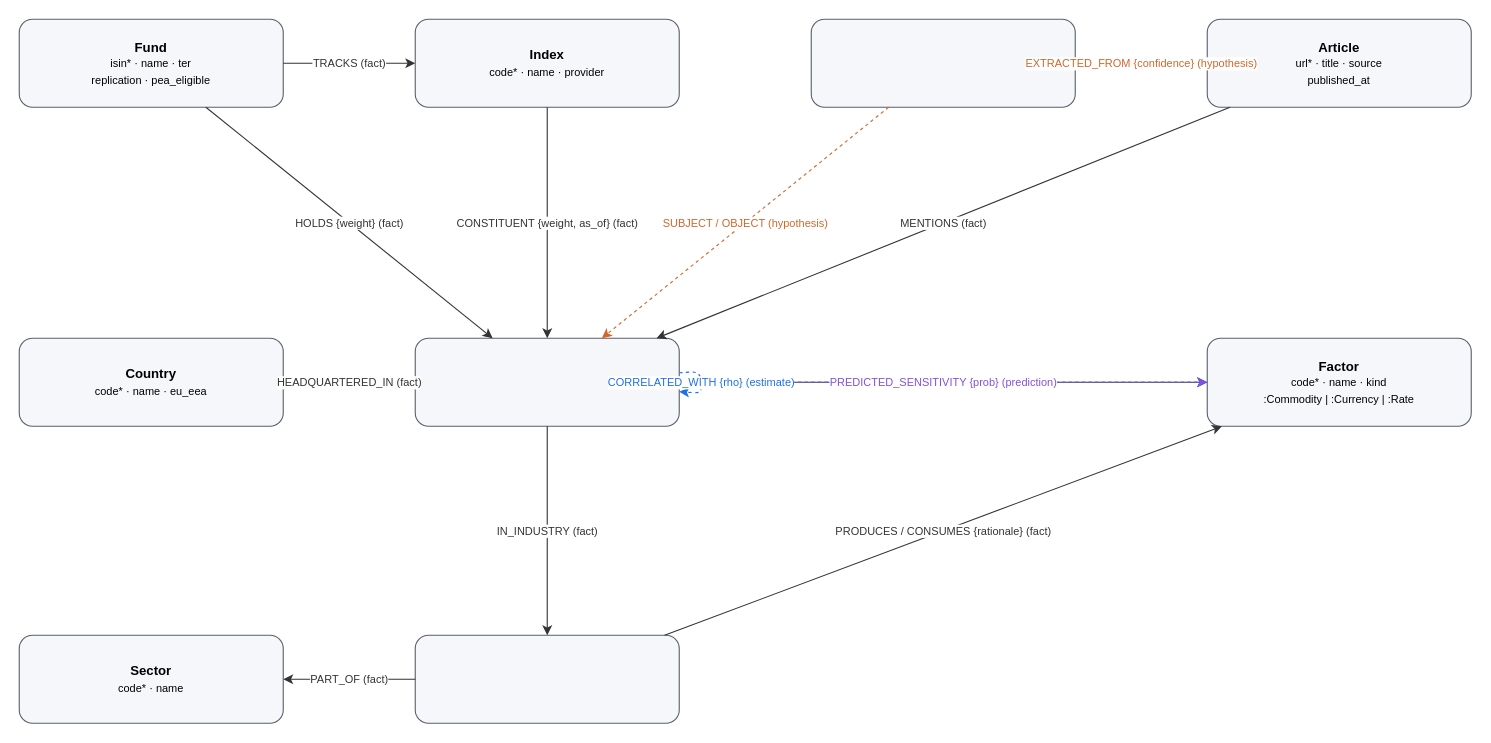
Image size: 1491x743. Some labels were removed from this diagram. Here are the shapes that lost their labels. From the top down, the centre of each, then its label:
the point at 942,62: Claim claim_id* · kind · status confidence · sources
the point at 546,381: Company isin* · name · ticker pea_eligible · market_cap_eur
the point at 546,678: Industry code* · name
